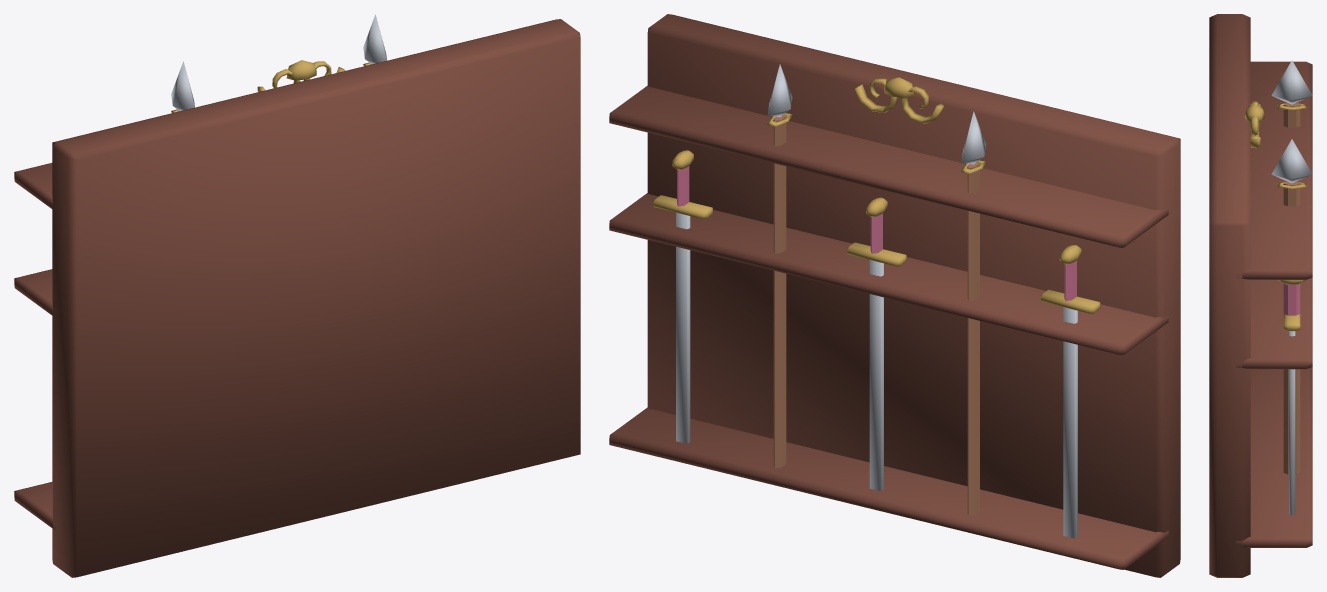
The model's file is weapon_rack.glb.
3 views of the same model, side by side, from view 1: azimuth 30°, elevation 25°; view 2: azimuth 150°, elevation 25°; view 3: azimuth 270°, elevation 25° (orthographic). The views are drawn at different scales.
Visible parts, largest first — view 1: weapon_rack; view 2: weapon_rack; view 3: weapon_rack.
Boxes of the visible parts, box(x1,y1,x2,y2) form: weapon_rack: box(14, 14, 580, 577); weapon_rack: box(609, 14, 1180, 577); weapon_rack: box(1209, 14, 1312, 577).
Size of what is drawn, in the model's own units: 2.4 by 2 by 0.5.
